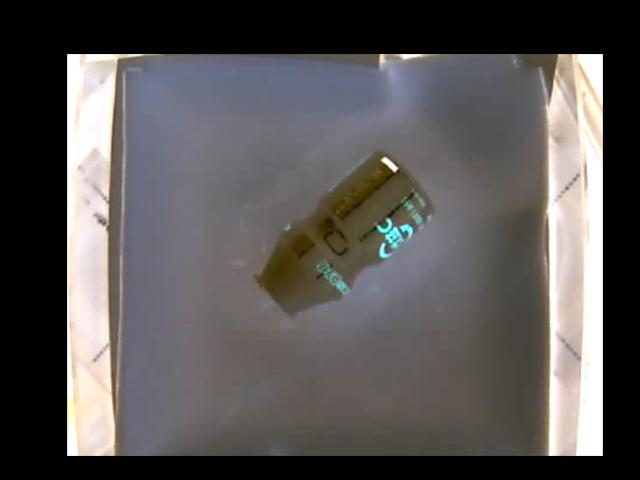Bottle: (258, 149, 432, 317)
